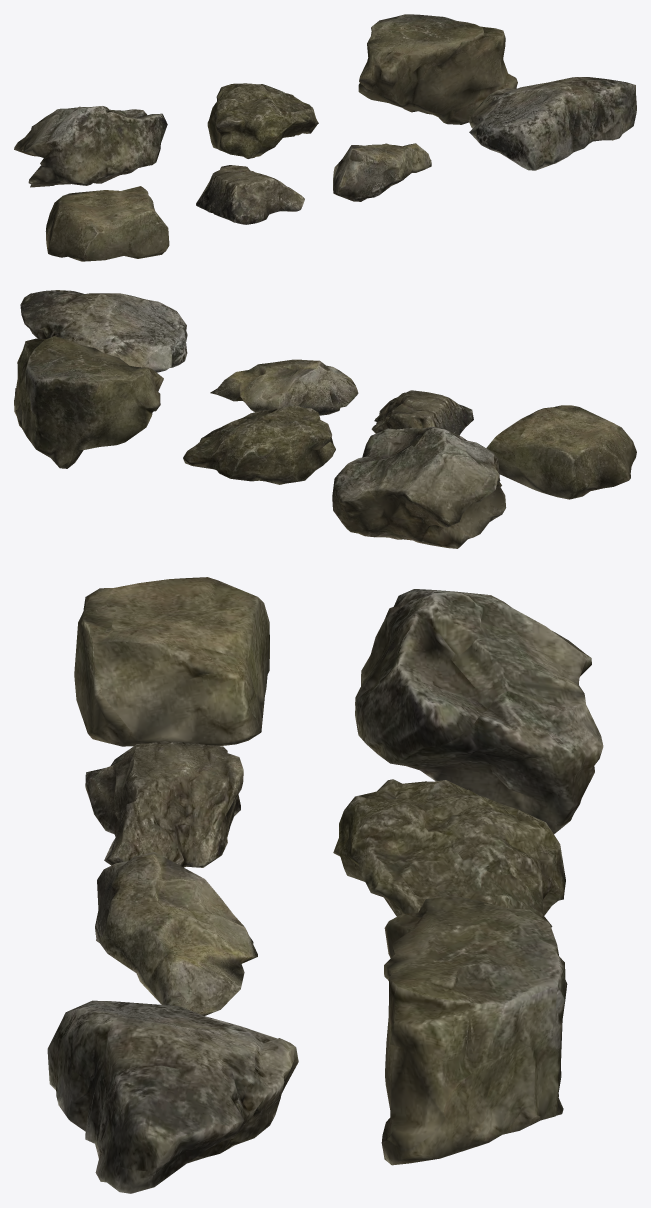
Rendered from rock_moss_set_02.glb.
3 renders of one model, top to bottom at view 1: azimuth 30°, elevation 25°; view 2: azimuth 150°, elevation 25°; view 3: azimuth 270°, elevation 25°, orthographic. The views are drawn at different scales.
Visible parts, largest first — view 1: rock_moss_set_02_rock08; view 2: rock_moss_set_02_rock08; view 3: rock_moss_set_02_rock08.
Part boxes in pixels (x1=…): rock_moss_set_02_rock08: x1=14, y1=14, x2=636, y2=261; rock_moss_set_02_rock08: x1=14, y1=290, x2=636, y2=548; rock_moss_set_02_rock08: x1=47, y1=577, x2=603, y2=1193.
Bounding box in the file's own units: 8.27 × 1.36 × 3.41.
1 material, 1 textured.
